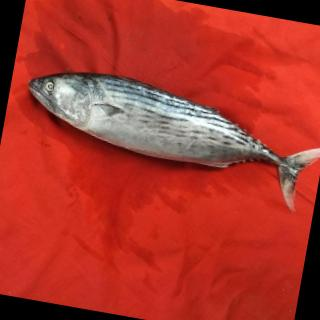Ikan: (4, 54, 320, 222)
